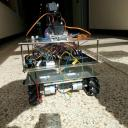cart: (18, 38, 101, 106)
